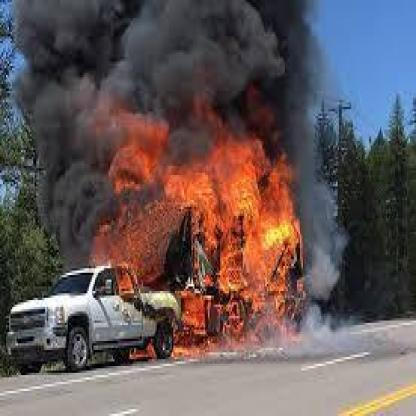Fire: (112, 134, 304, 339)
Smoke: (0, 0, 311, 121), (308, 139, 350, 335), (44, 138, 106, 263)
